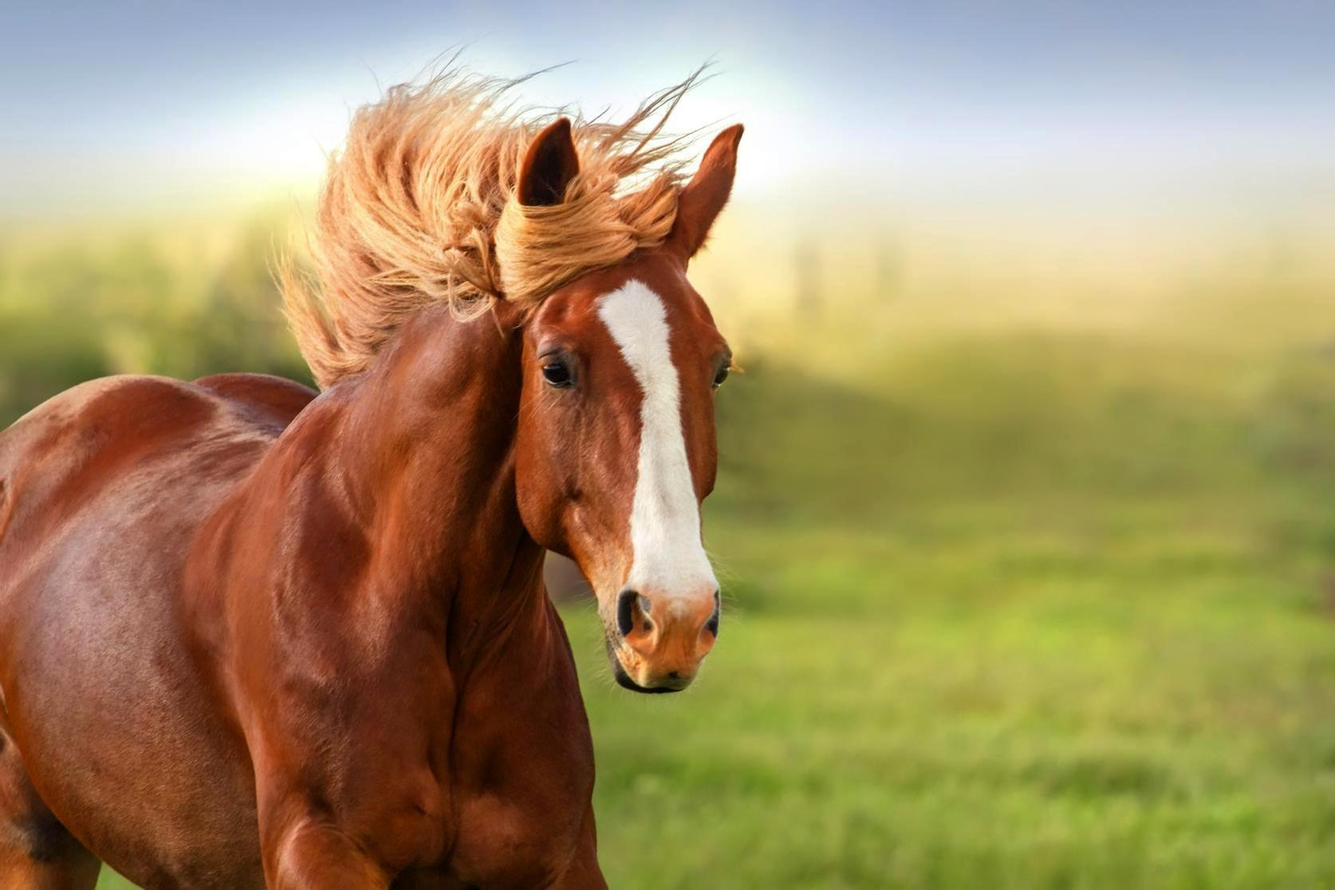horse: (0, 43, 754, 890)
